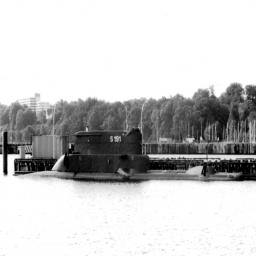submarine: (22, 130, 244, 181)
